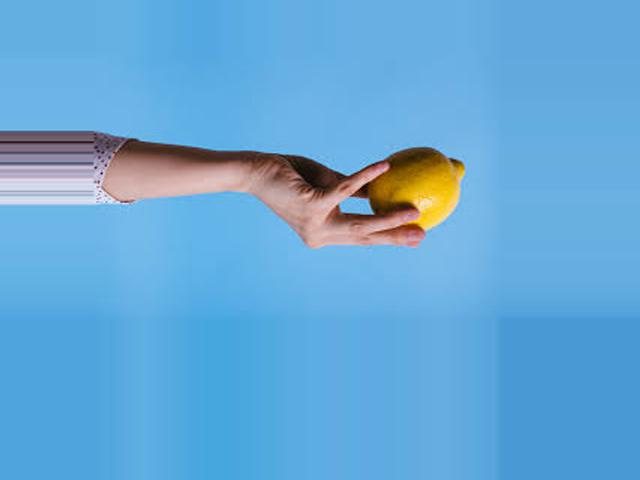lemon: (333, 140, 471, 293)
